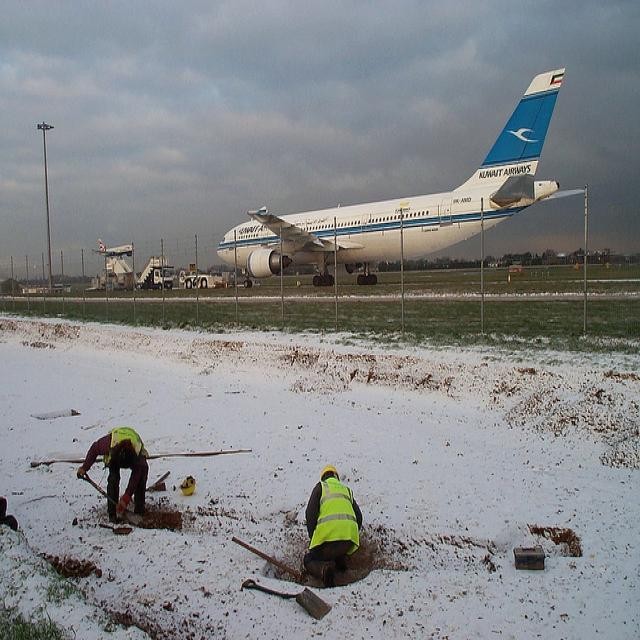Vehicle: (179, 270, 216, 289)
